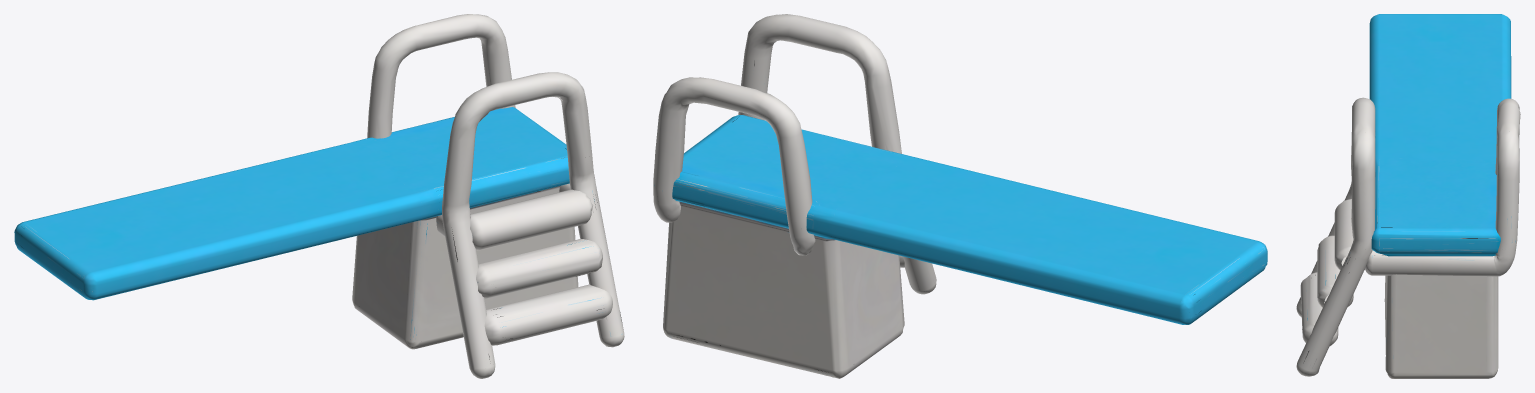
The model's file is pool_board.glb.
The picture shows the model from 3 angles, left to right: view 1: azimuth 30°, elevation 25°; view 2: azimuth 150°, elevation 25°; view 3: azimuth 270°, elevation 25°; orthographic projection. The views are drawn at different scales.
Parts seen in each view (by area): view 1: geometry_0; view 2: geometry_0; view 3: geometry_0.
Part boxes in pixels (<box>): geometry_0: <box>14,14,624,378</box>; geometry_0: <box>653,14,1267,378</box>; geometry_0: <box>1296,14,1520,378</box>.
Size of the model in its own units: 0.9565 by 0.4741 by 0.4062.
1 material, 1 textured.
